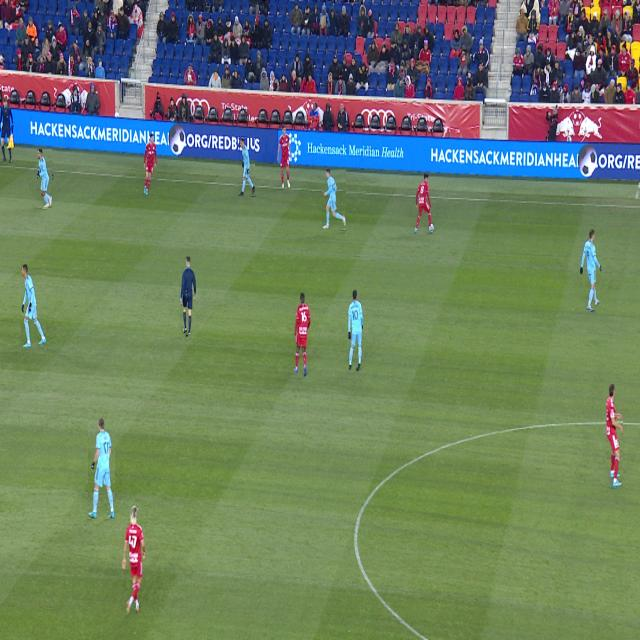football: (429, 223, 435, 233)
player: (88, 418, 115, 519), (122, 506, 145, 614), (22, 264, 46, 348), (580, 230, 602, 310), (606, 385, 623, 487), (323, 169, 346, 229), (294, 293, 310, 376), (414, 174, 435, 233), (348, 290, 363, 371), (277, 124, 292, 189), (239, 139, 255, 196), (38, 150, 52, 208), (144, 134, 157, 195)
referee: (180, 257, 196, 335)
